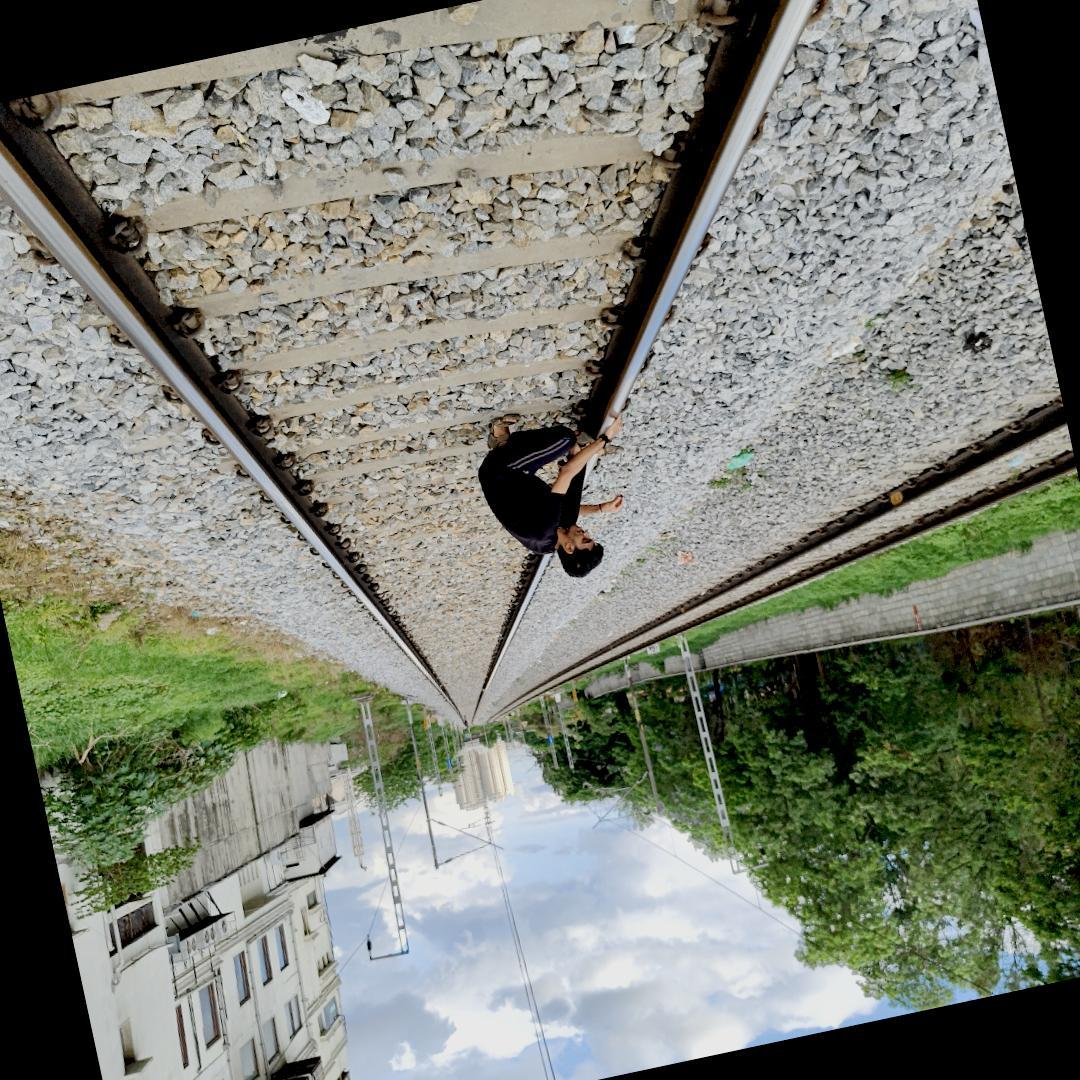sitting: (437, 391, 659, 601)
